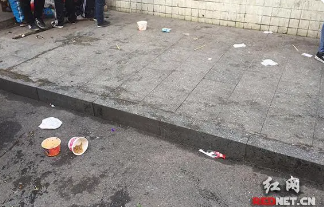garbage: (196, 143, 237, 160), (35, 138, 66, 157), (65, 136, 93, 157), (38, 114, 68, 133), (258, 56, 285, 70), (232, 40, 259, 52), (135, 14, 150, 33), (157, 26, 177, 40), (299, 48, 318, 61), (108, 126, 124, 139), (259, 28, 276, 38)
